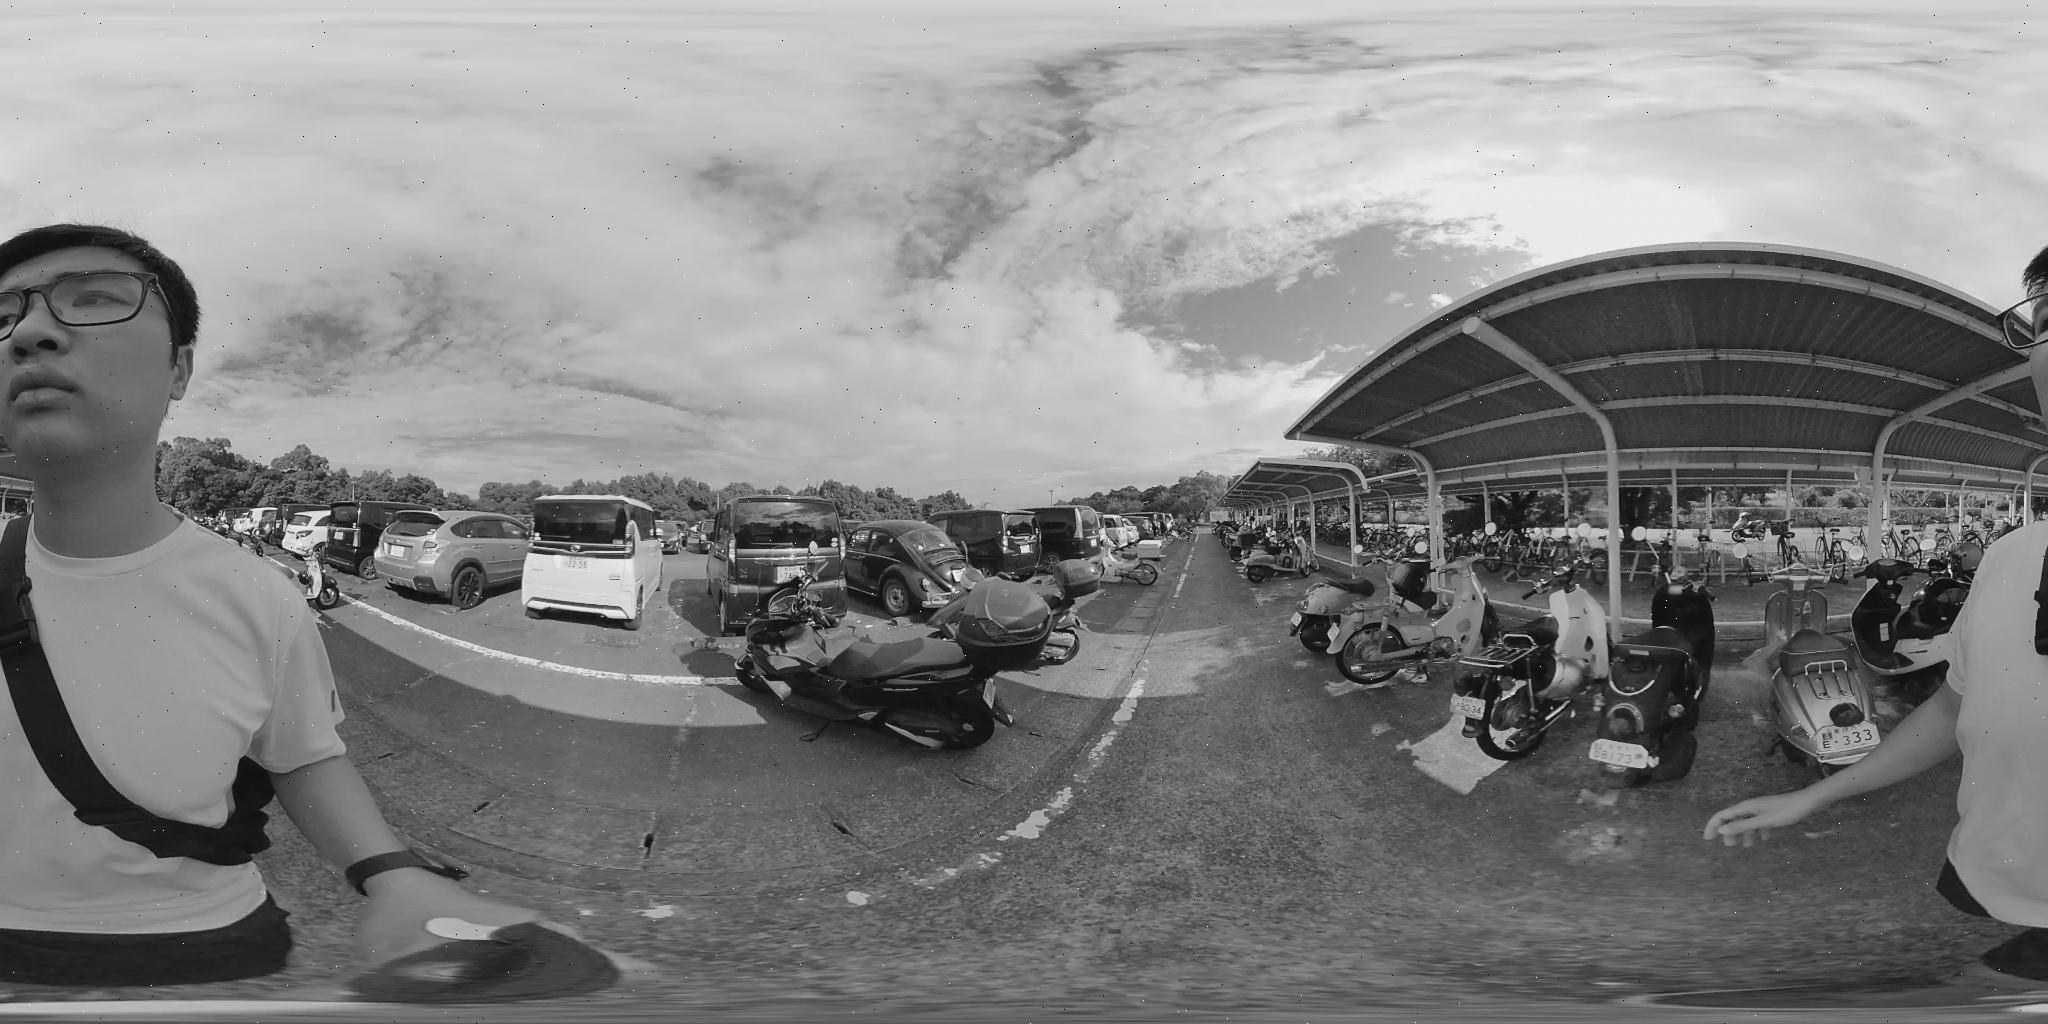car: (530, 492, 652, 633), (709, 503, 823, 636), (375, 512, 534, 596), (321, 500, 423, 572)
